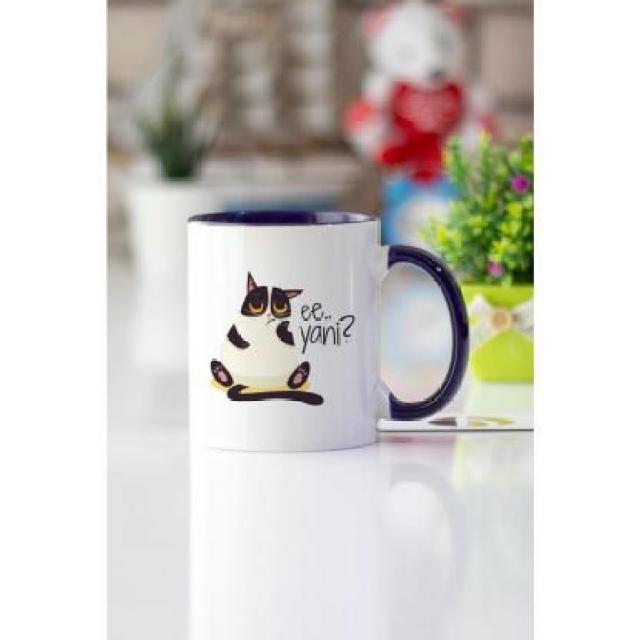taza: (169, 193, 472, 470)
